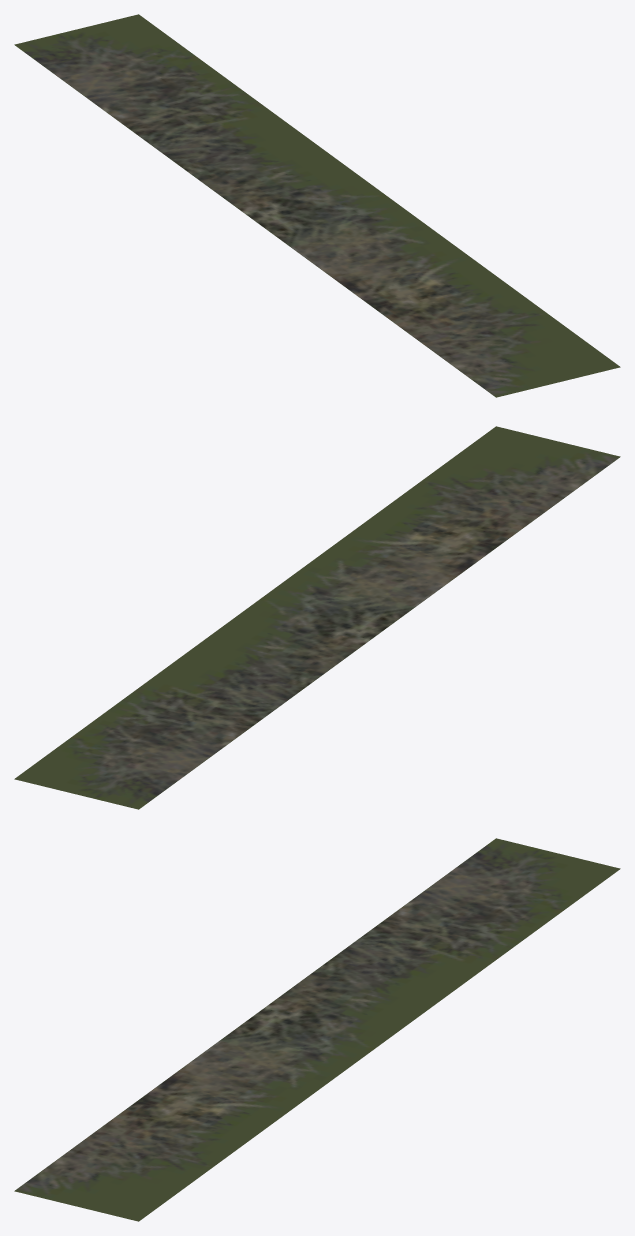
Rendered from Common_OBJ_WaterBush_01.fbx.
The picture shows the model from 3 angles, top to bottom: view 1: azimuth 30°, elevation 25°; view 2: azimuth 150°, elevation 25°; view 3: azimuth 330°, elevation 25°; orthographic projection.
Parts seen in each view (by area): view 1: Common_OBJ_WaterBush_01; view 2: Common_OBJ_WaterBush_01; view 3: Common_OBJ_WaterBush_01.
Boxes of the visible parts, box(x1,y1,x2,y2) form: Common_OBJ_WaterBush_01: box(14, 14, 620, 397); Common_OBJ_WaterBush_01: box(14, 426, 620, 809); Common_OBJ_WaterBush_01: box(14, 838, 620, 1221).
Size of the model in its own units: 53.74 by 1.02e-13 by 360.
1 material, 1 textured.
